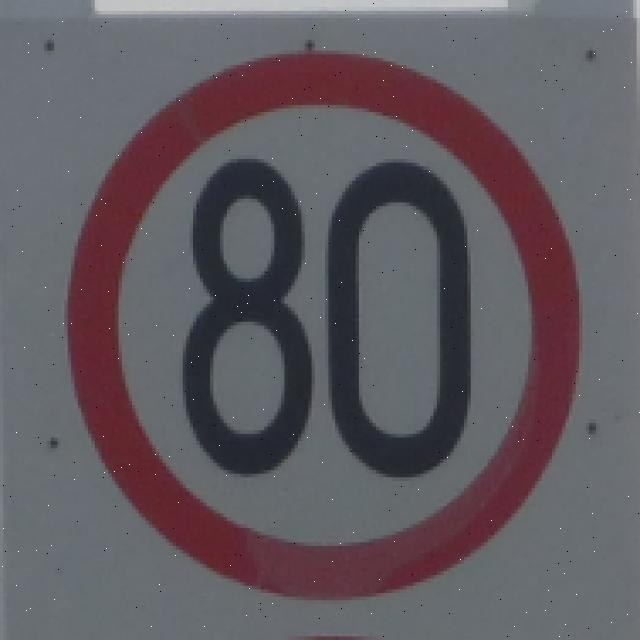speed limit 80: (68, 49, 583, 596)
